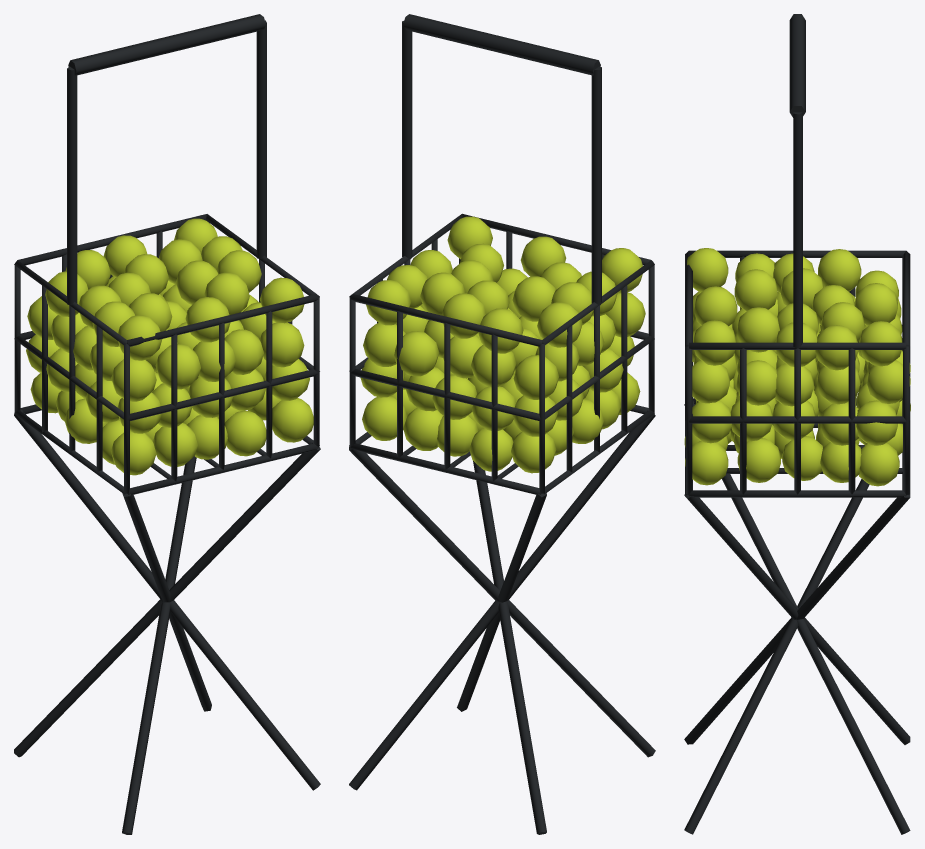
The model's file is gb-hopper.glb.
3 renders of one model, left to right at view 1: azimuth 30°, elevation 25°; view 2: azimuth 150°, elevation 25°; view 3: azimuth 270°, elevation 25°, orthographic.
Parts seen in each view (by area): view 1: gb-hopper; view 2: gb-hopper; view 3: gb-hopper.
Part boxes in pixels (bbox=[...]): gb-hopper: bbox=[14, 14, 320, 834]; gb-hopper: bbox=[349, 14, 655, 834]; gb-hopper: bbox=[684, 14, 910, 834].
Bounding box in the file's own units: 0.3362 × 1.19 × 0.3337.
